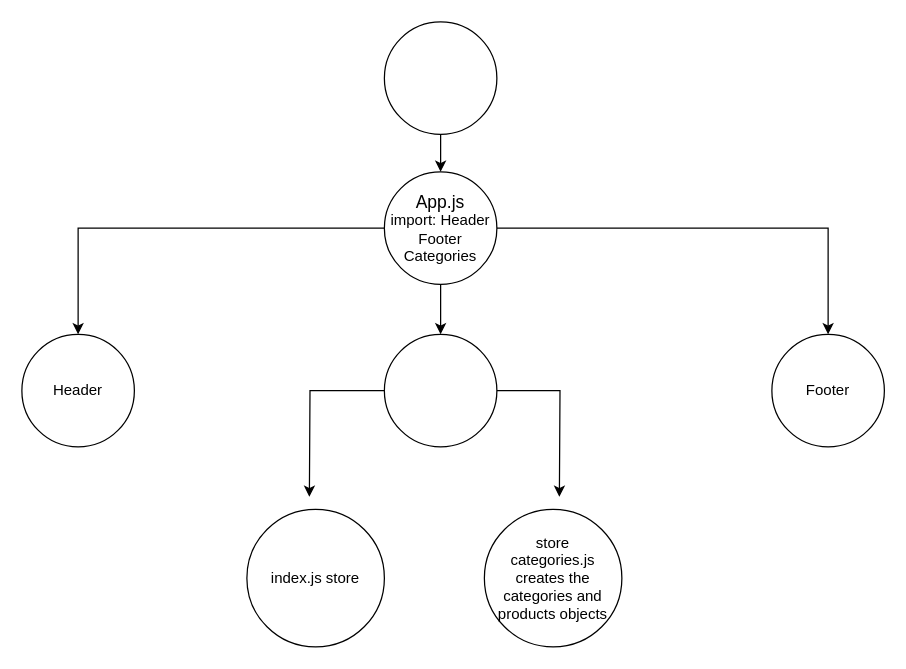
Image size: 906x669. Some labels were removed from this diagram. The box of each missing label's shape, as (x1, y1, x2, y2) in pixels:
Categories storefront: (383, 333, 497, 447)
index.js import App <Provider> <App/> </Provider: (383, 21, 497, 134)
